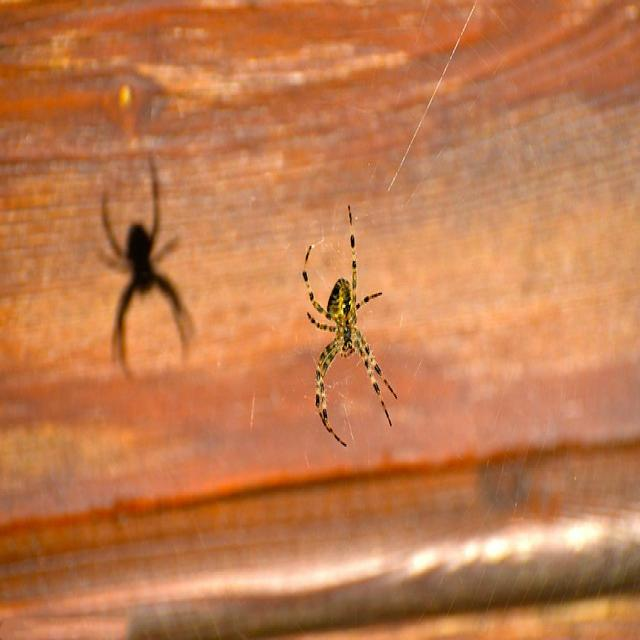spyder: (302, 206, 396, 444)
